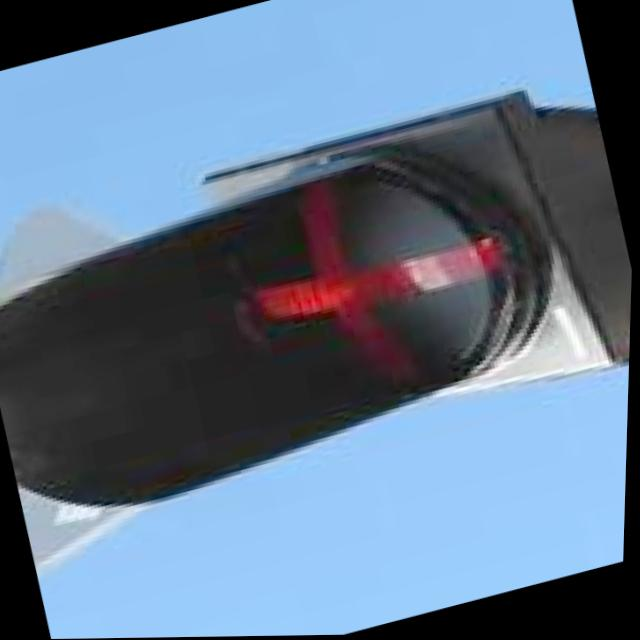red_light: (55, 0, 637, 607)
